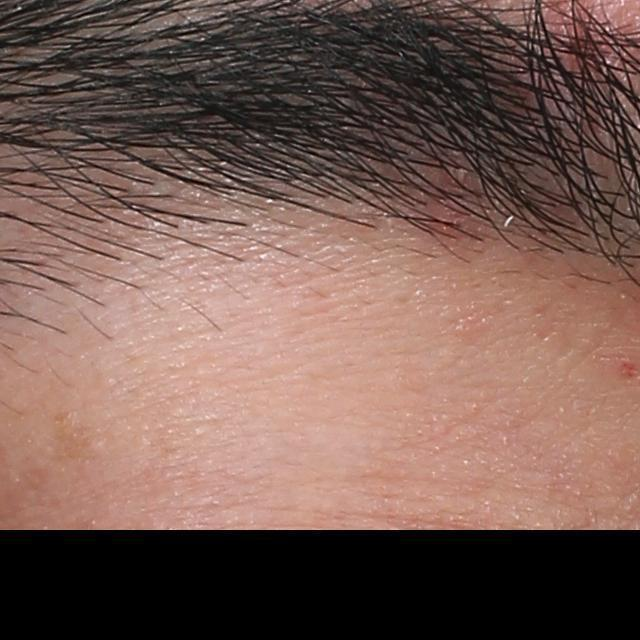melasma: (52, 406, 100, 464)
